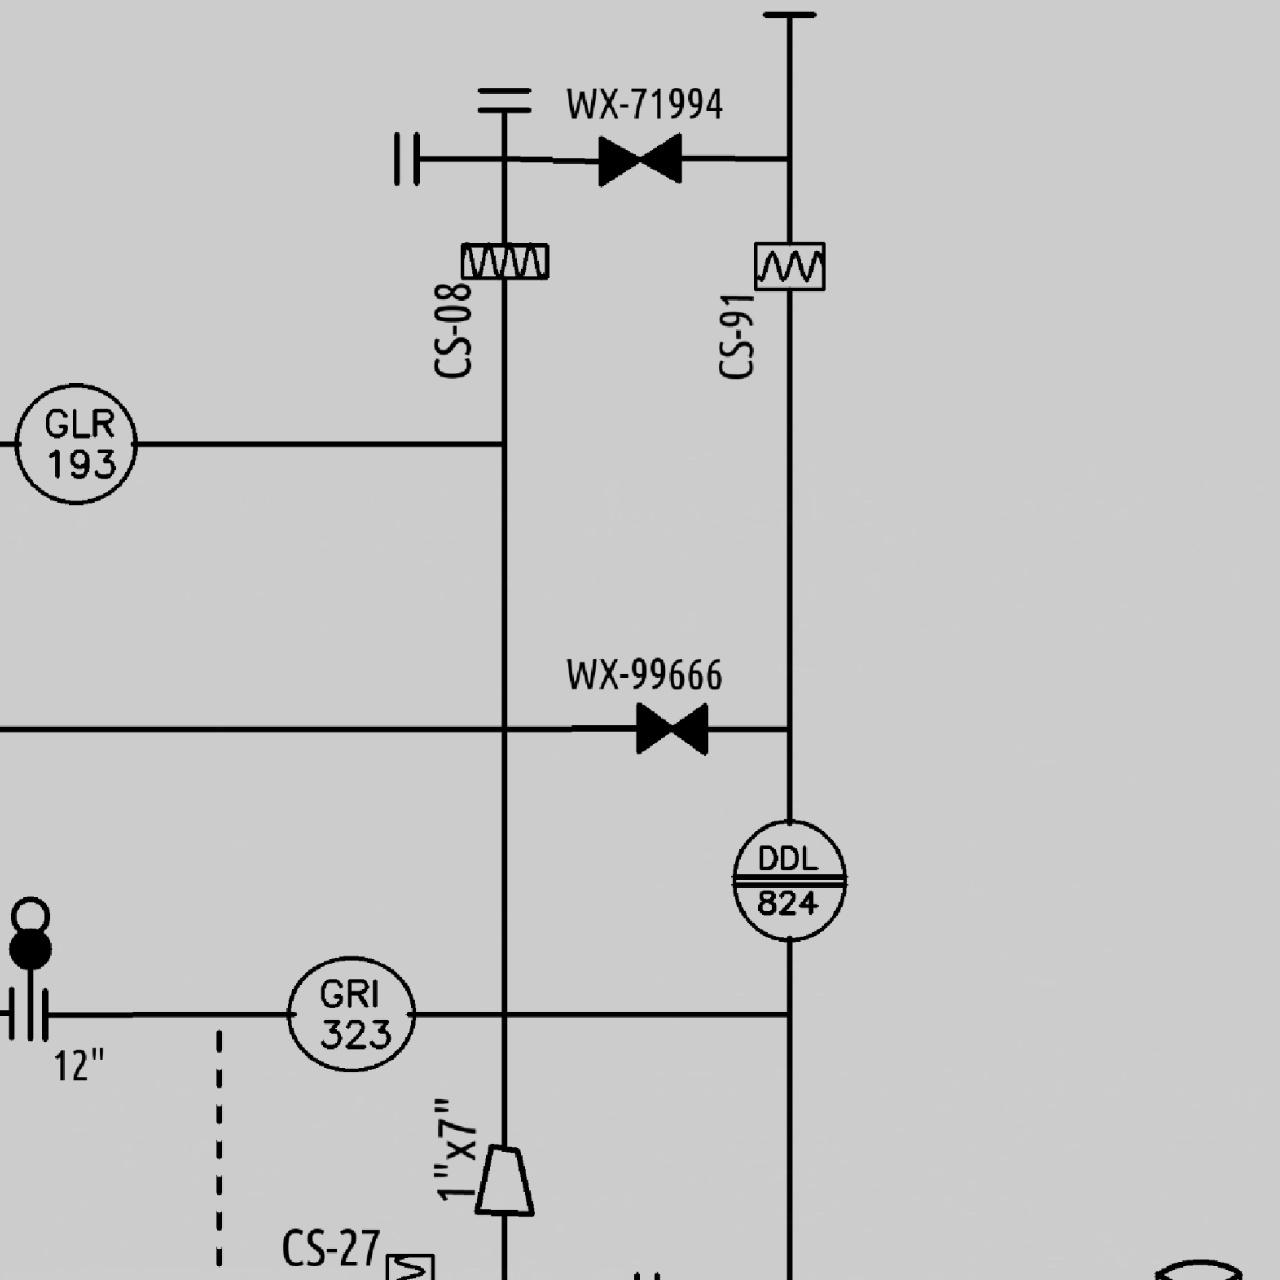Control-Panel: (722, 813, 855, 945)
